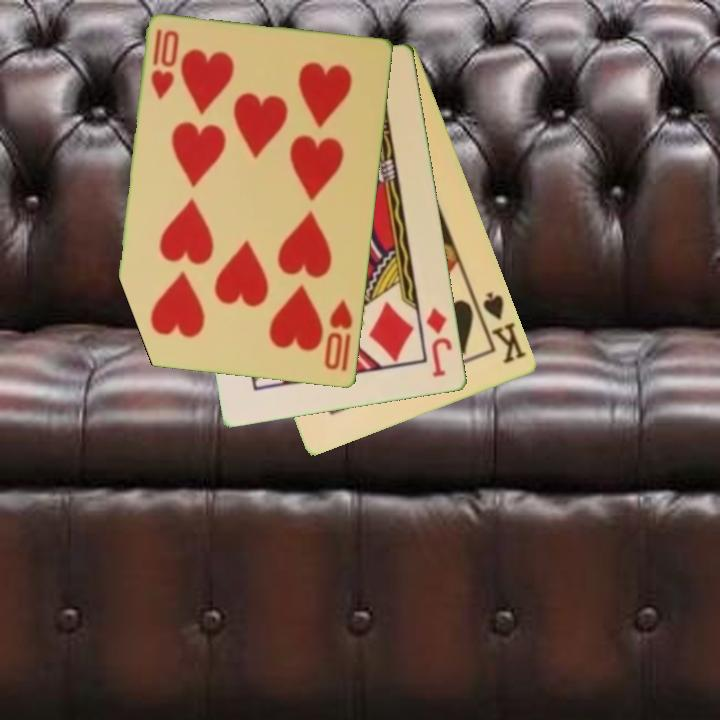10h: (321, 296, 356, 373), (148, 25, 183, 102)
Jd: (423, 305, 456, 380)
Ks: (480, 288, 530, 367)
